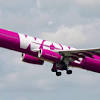maybay_dansu: (2, 23, 100, 75)
